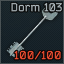Dorm room 103 key: (0, 0, 64, 64)
